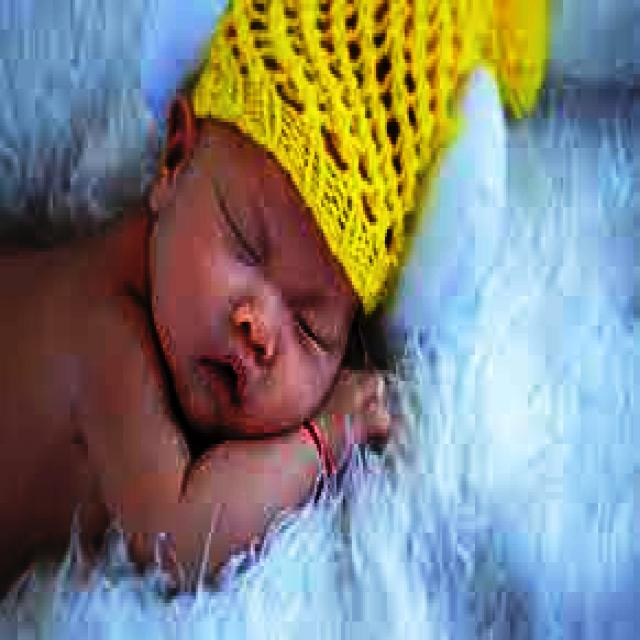TOPI: (189, 0, 550, 318)
